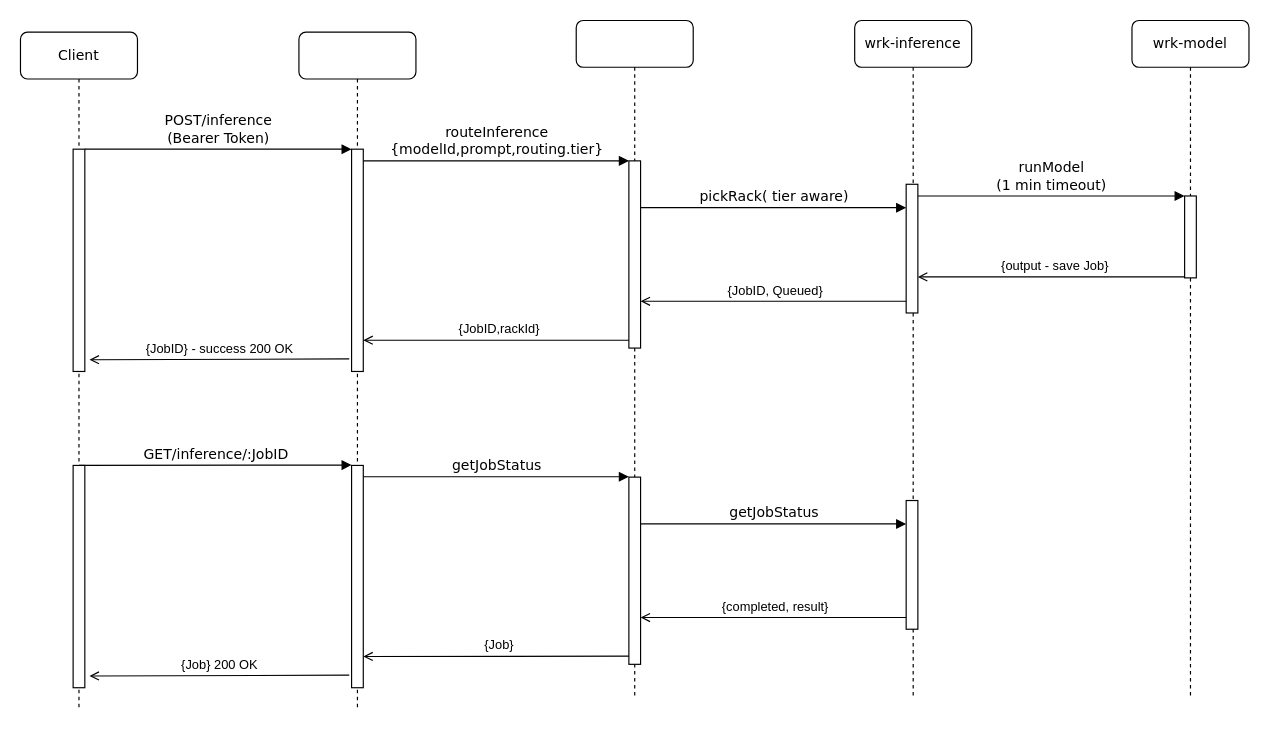
Some shapes in this 1269 by 731 pixel diagram are drawn without their labels. Here are the shapes that lost their labels. From the top down, the centre of each, then its label:
At point 357,371: "app-node".
At point 634,359: "wrk-ork".
